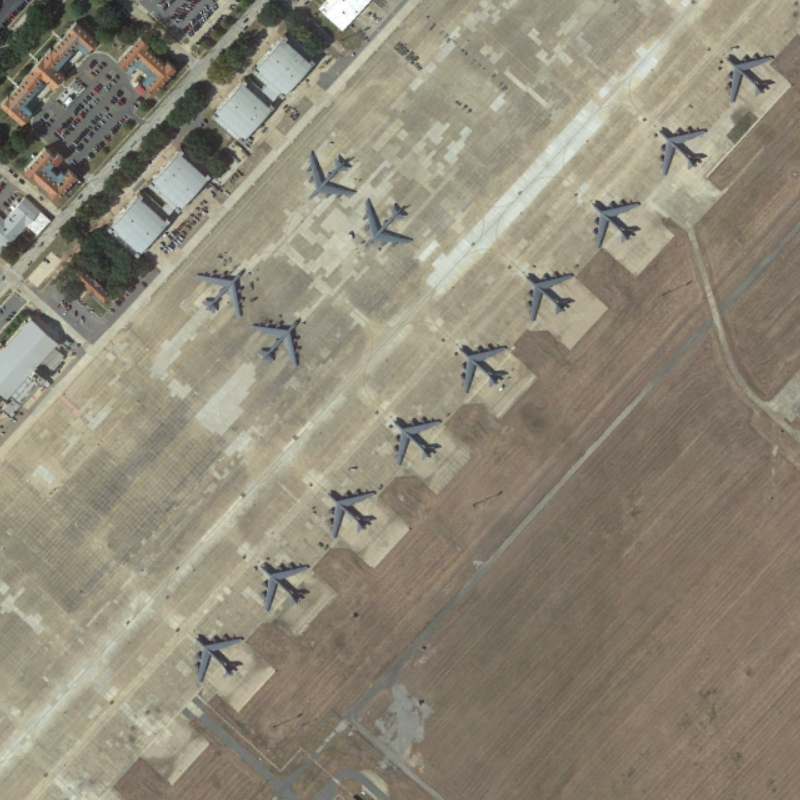A8: (300, 148, 360, 205), (359, 195, 416, 255), (454, 340, 514, 397), (323, 485, 383, 542), (584, 195, 643, 252), (519, 268, 578, 325), (248, 315, 306, 372), (654, 123, 713, 178), (388, 413, 444, 469), (194, 266, 249, 321), (722, 50, 777, 105), (191, 630, 247, 684), (254, 561, 312, 611)
